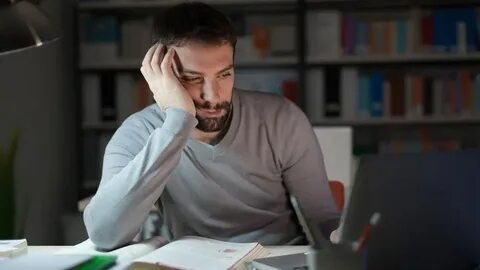sleep: (83, 1, 346, 243)
